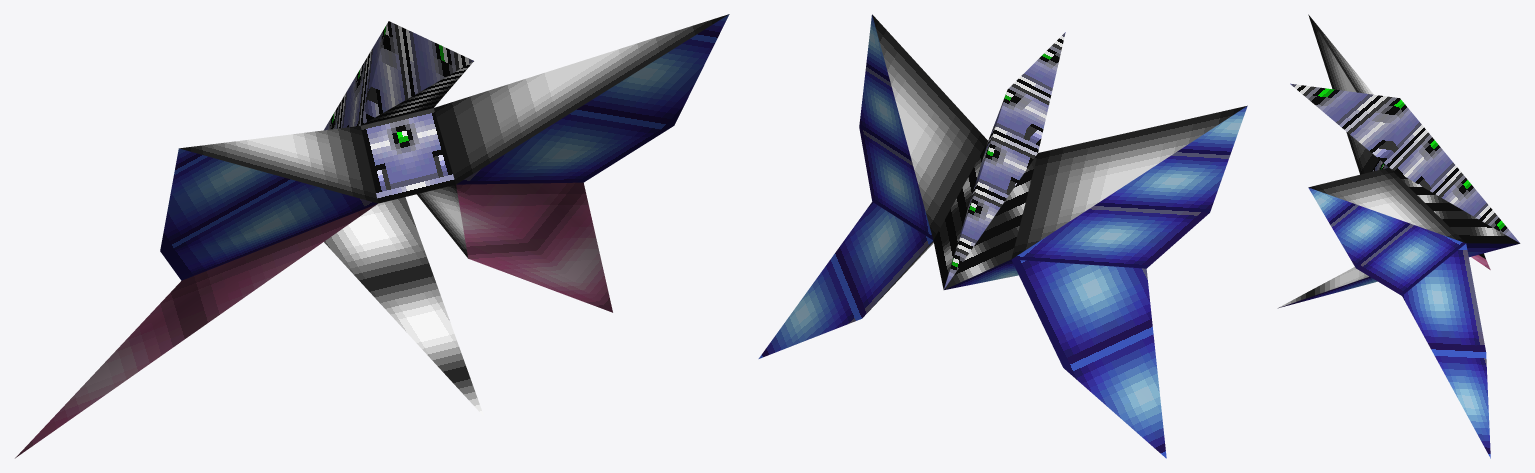
The model's file is Butterfly Fighter.dae.
The picture shows the model from 3 angles, left to right: view 1: azimuth 30°, elevation 25°; view 2: azimuth 150°, elevation 25°; view 3: azimuth 270°, elevation 25°; orthographic projection. The views are drawn at different scales.
Parts seen in each view (by area): view 1: specmetal, blue, pink, eyeplate, pipe; view 2: blue, specmetal, eyeplate, pipe; view 3: blue, eyeplate, specmetal, pipe.
Part boxes in pixels (left/top/right/bottom): specmetal: left=179, top=14, right=728, bottom=416; blue: left=160, top=14, right=729, bottom=280; pink: left=15, top=182, right=612, bottom=458; eyeplate: left=324, top=21, right=473, bottom=203; pipe: left=361, top=61, right=473, bottom=125; blue: left=758, top=15, right=1247, bottom=458; specmetal: left=864, top=14, right=1247, bottom=316; eyeplate: left=944, top=32, right=1065, bottom=289; pipe: left=933, top=142, right=1037, bottom=289; blue: left=1278, top=187, right=1519, bottom=458; eyeplate: left=1290, top=83, right=1519, bottom=242; specmetal: left=1278, top=14, right=1485, bottom=307; pipe: left=1390, top=168, right=1519, bottom=243.
Size of the model in its own units: 262 by 183 by 143.
Materials: 6 (6 with a texture image).
